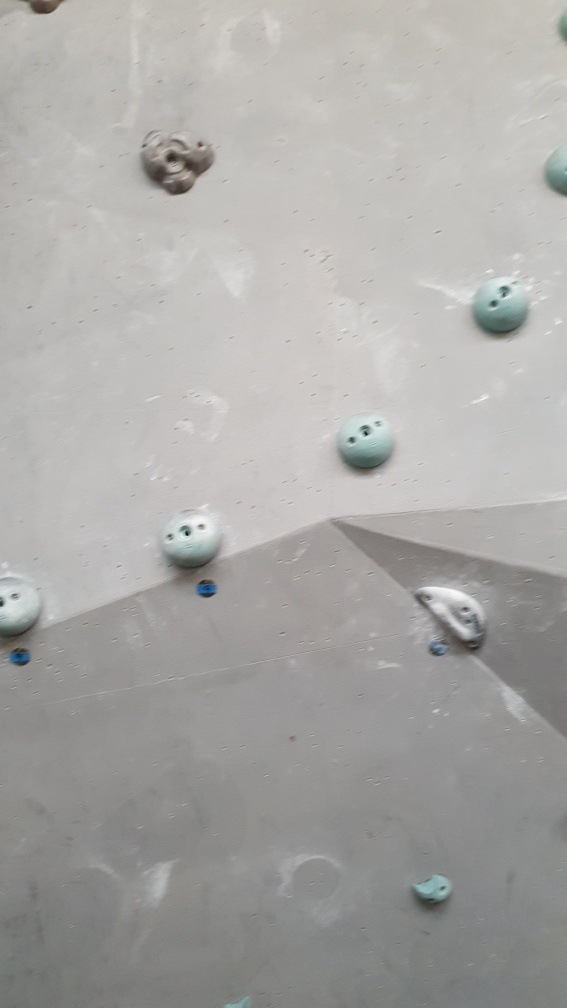Hand Start: (423, 634, 450, 659), (195, 577, 222, 599), (11, 646, 35, 669)
Jug: (135, 124, 221, 203)
Sloper: (469, 274, 540, 342), (157, 505, 229, 570), (334, 407, 403, 468), (1, 574, 45, 645), (542, 138, 567, 193)
